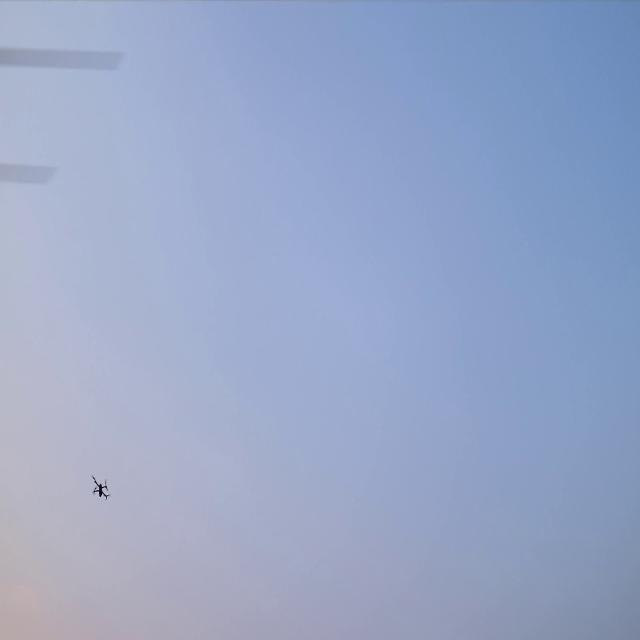UAV: (90, 473, 112, 502)
